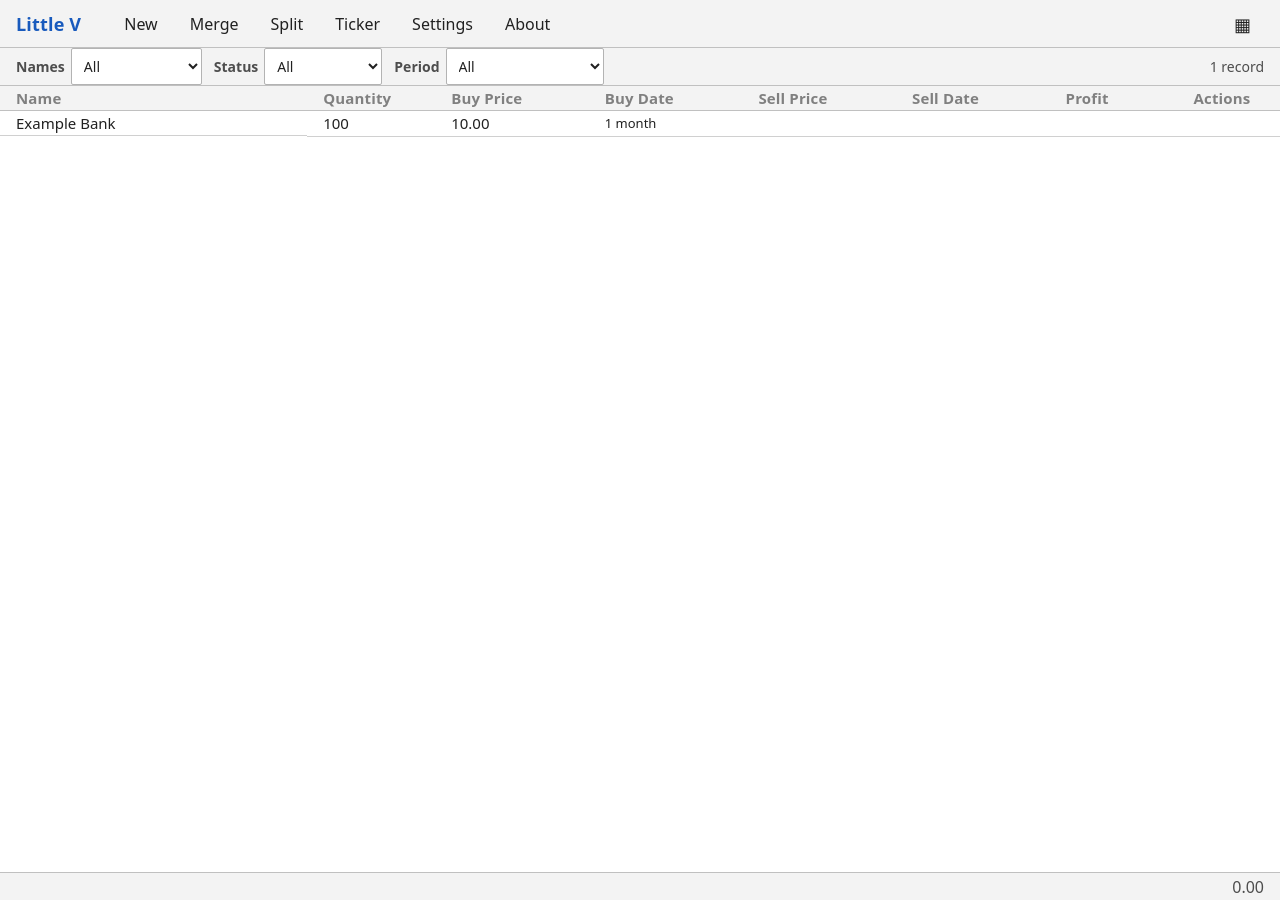
Test: App › shows the app version in a smaller font appended to the About dialog title
Expected: the text "Example Bank" is shown, x1=16 y1=113 x2=116 y2=133
Click the button "About" at (528, 24), box x1=492 y1=6 x2=563 y2=42
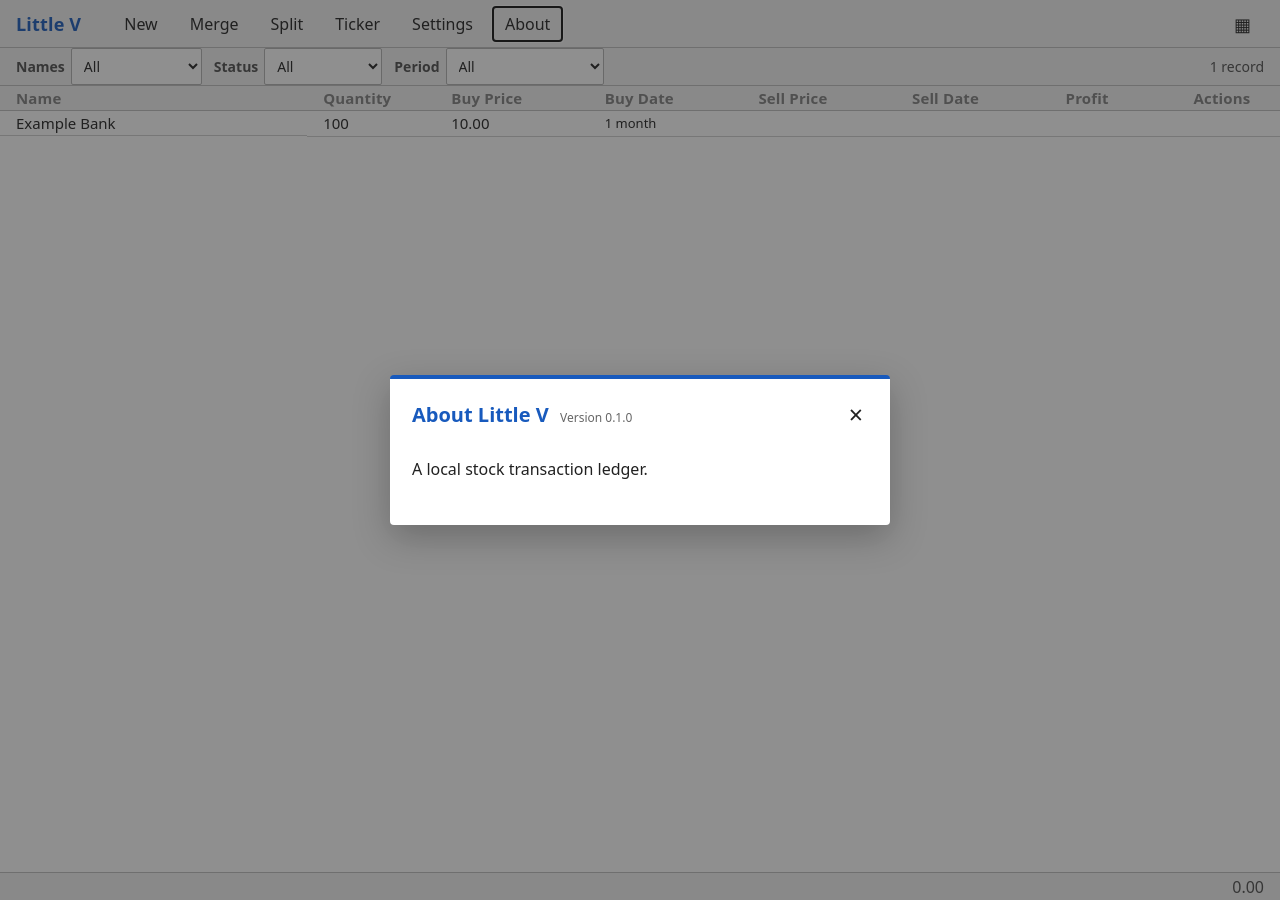
Expected: the heading reads "About Little V Version 0.1.0", x1=412 y1=401 x2=632 y2=428
Expected: the text "A local stock transaction ledger." is shown, x1=412 y1=458 x2=648 y2=480
